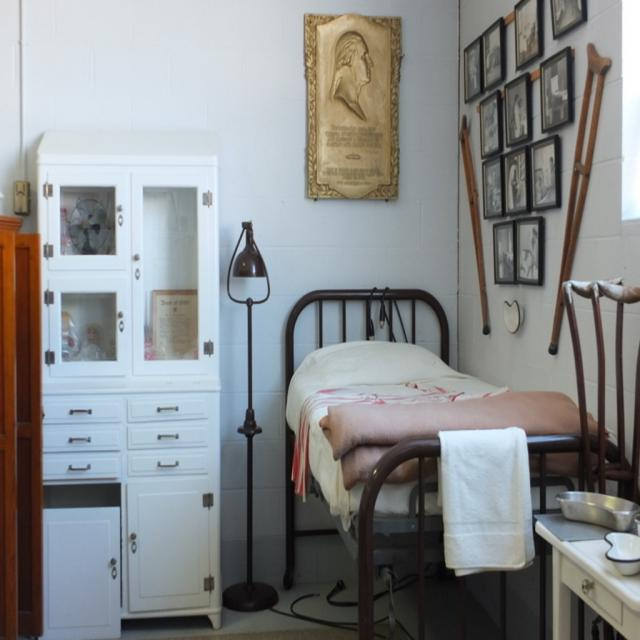chair: (562, 279, 640, 503)
desk: (527, 488, 640, 639)
